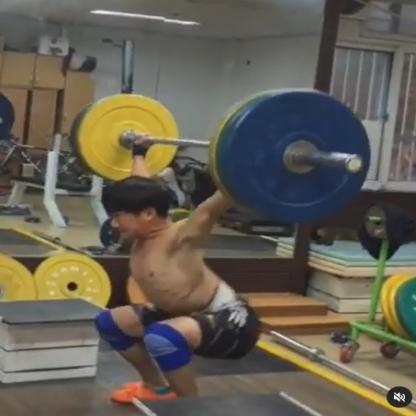Barbell: (200, 81, 381, 227)
